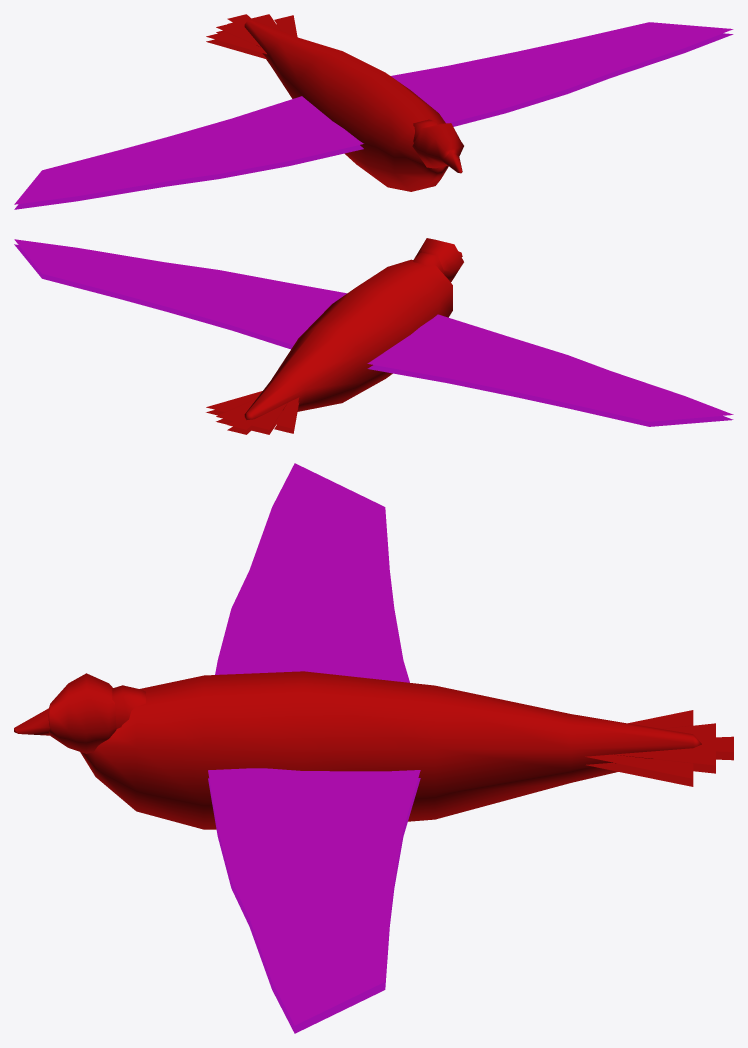
Rendered from brent.glb.
The picture shows the model from 3 angles, top to bottom: view 1: azimuth 30°, elevation 25°; view 2: azimuth 150°, elevation 25°; view 3: azimuth 270°, elevation 25°; orthographic projection. The views are drawn at different scales.
Parts seen in each view (by area): view 1: bird; view 2: bird; view 3: bird.
Part boxes in pixels (bbox=[...]): bird: bbox=[14, 14, 733, 209]; bird: bbox=[14, 238, 733, 434]; bird: bbox=[14, 463, 733, 1033].
Size of the model in its own units: 1.15 by 0.1289 by 0.6211.
